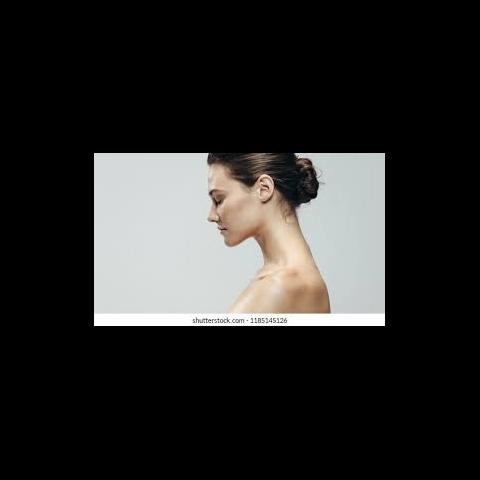closed: (210, 188, 228, 209)
